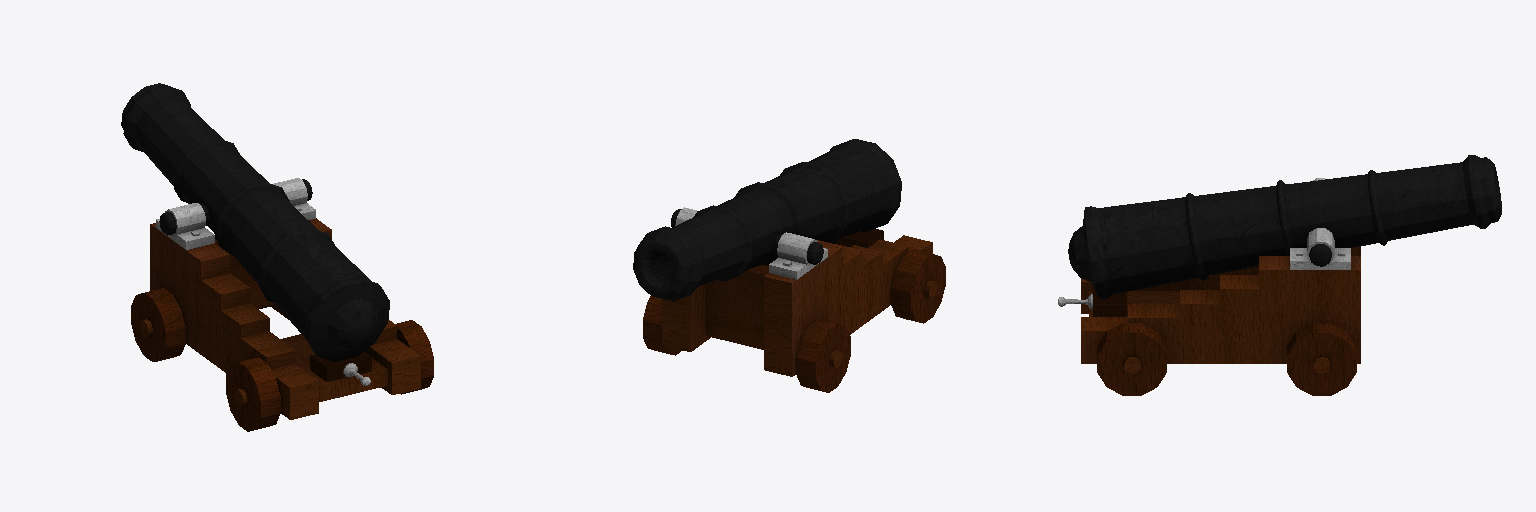
The picture shows the model from 3 angles: view 1: azimuth 30°, elevation 25°; view 2: azimuth 150°, elevation 25°; view 3: azimuth 270°, elevation 25°; orthographic projection.
Visible parts, largest first — view 1: Cannon_Tube; view 2: Cannon_Tube; view 3: Cannon_Tube.
Boxes of the visible parts, box(x1,y1,x2,y2) form: Cannon_Tube: box(121, 83, 433, 431); Cannon_Tube: box(633, 139, 945, 392); Cannon_Tube: box(1058, 155, 1501, 395).
Size of the model in its own units: 1.59 by 1.63 by 3.37.
1 materials, 1 textured.